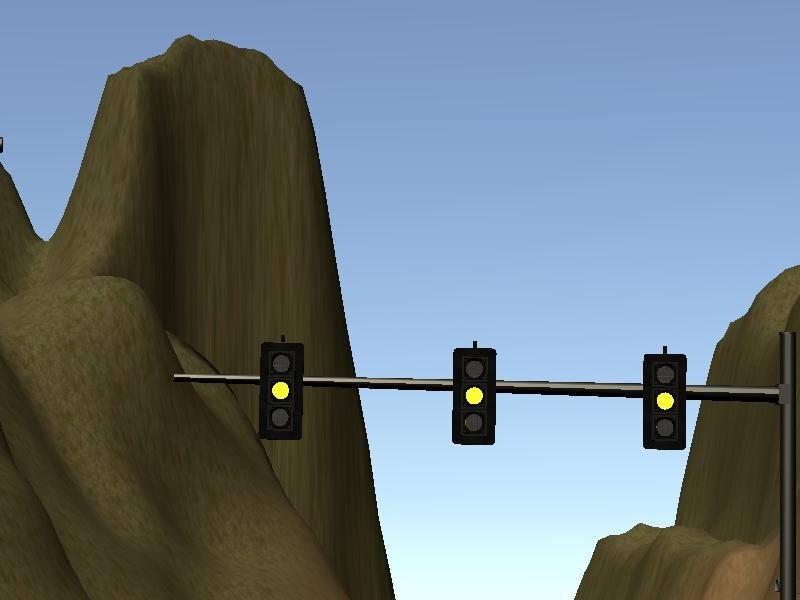YELLOW: (448, 340, 499, 447), (640, 344, 691, 451), (260, 339, 304, 439)
